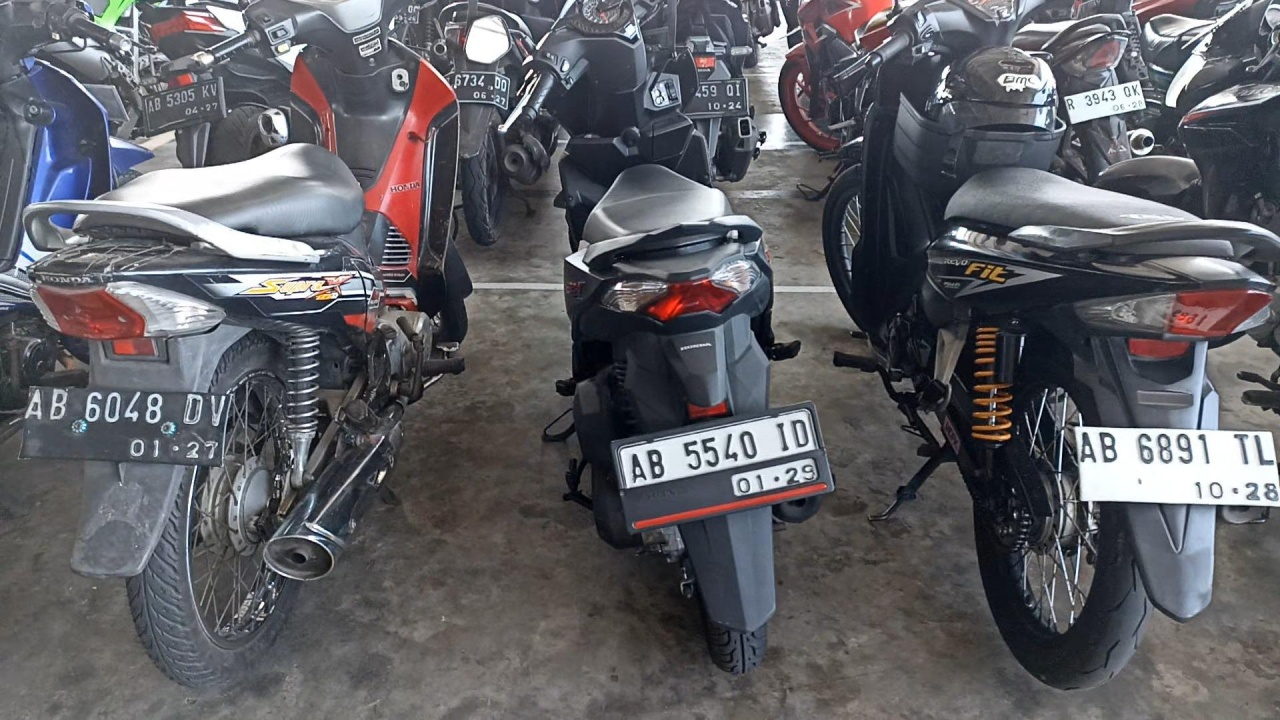plate: (613, 406, 831, 531), (19, 386, 232, 468), (1074, 426, 1280, 507), (143, 78, 225, 135), (1064, 79, 1147, 125)
